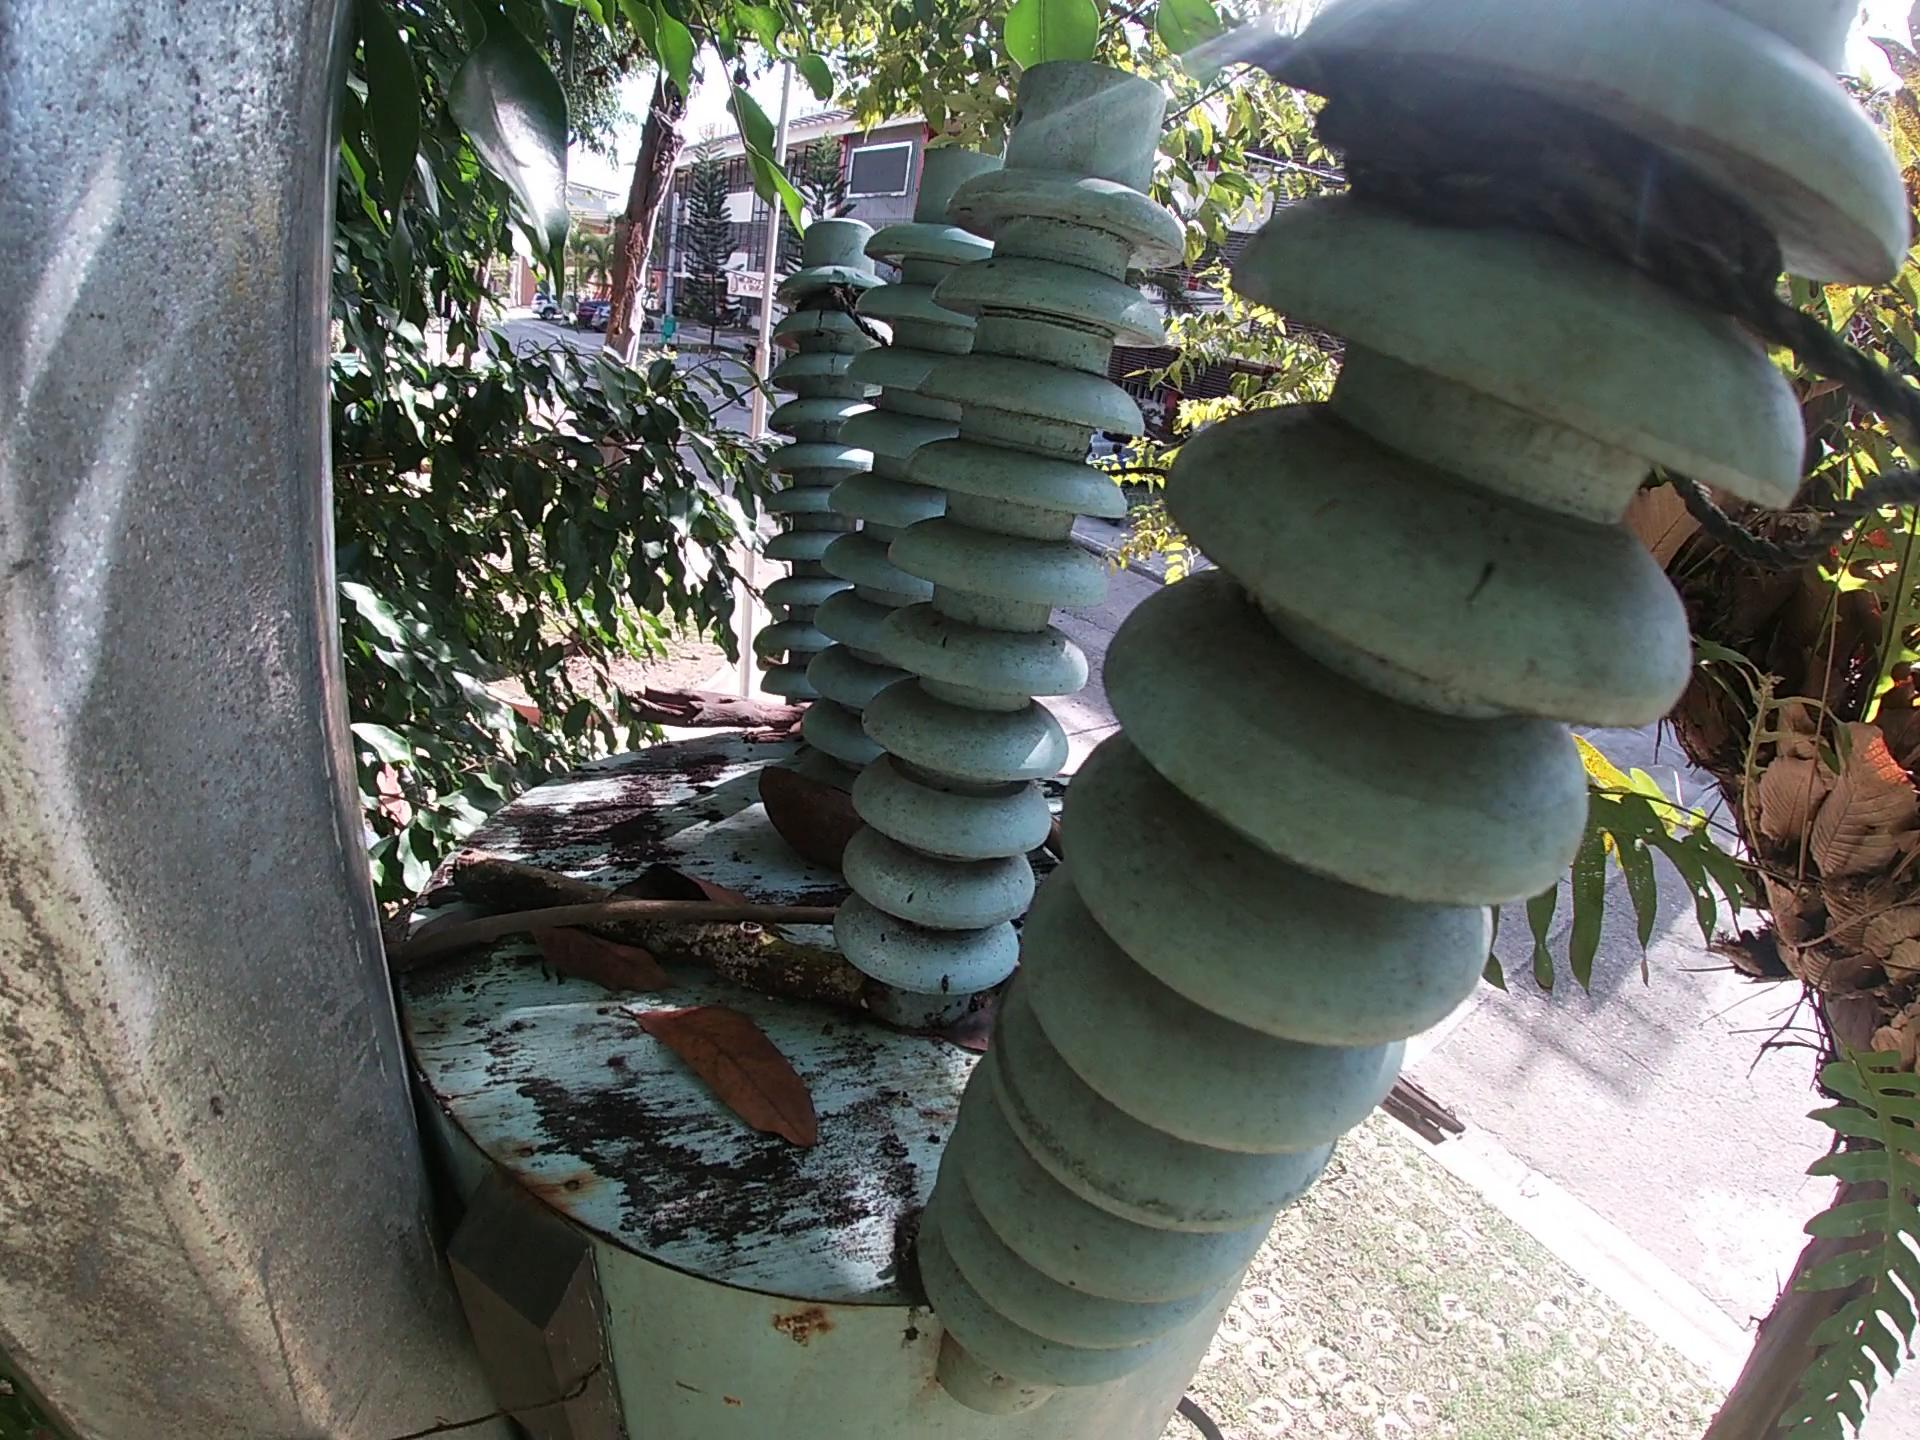leaf: (614, 1001, 822, 1150), (532, 929, 680, 995), (602, 865, 750, 905), (916, 998, 999, 1066)
mahogany fruit: (751, 762, 862, 874)
tree branch: (451, 850, 869, 1013), (381, 902, 844, 974), (615, 679, 804, 744)
